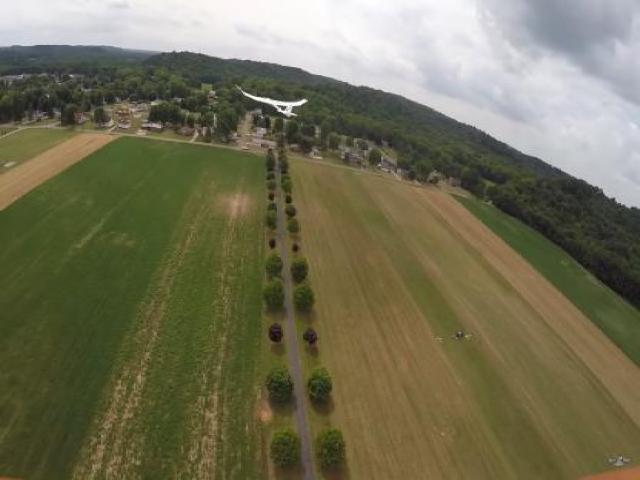uav: (232, 78, 310, 120)
